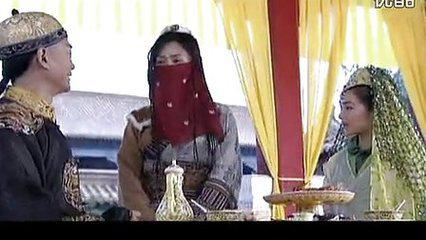NONE: (38, 45, 77, 92), (338, 100, 377, 135)
OK: (158, 54, 191, 87)
